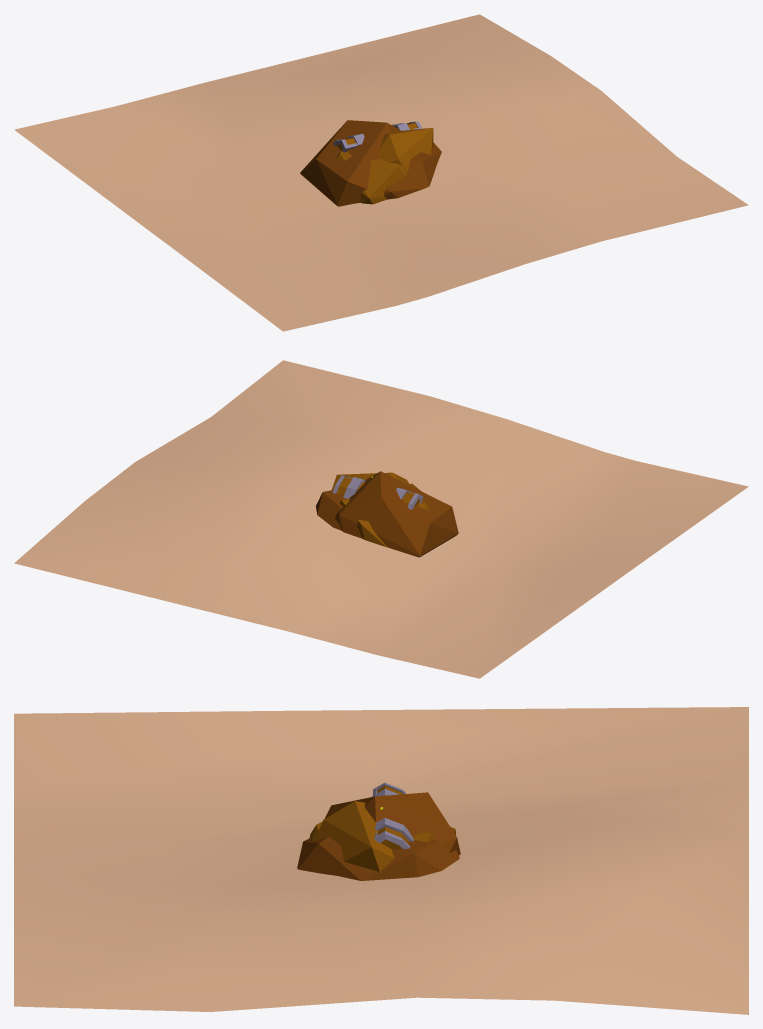
The model's file is Underwater_all_objects.FBX.
The picture shows the model from 3 angles, top to bottom: view 1: azimuth 30°, elevation 25°; view 2: azimuth 150°, elevation 25°; view 3: azimuth 270°, elevation 25°; orthographic projection. The views are drawn at different scales.
Visible parts, largest first — view 1: Sand_01, Rock_02, Rock_01, Rock_06, Rock_07, Chest_opened_01; view 2: Sand_01, Rock_02, Chest_opened_01, Rock_06, Rock_07; view 3: Sand_01, Rock_06, Rock_02, Rock_01, Chest_opened_01.
Boxes of the visible parts, left/top/right/bottom form: Sand_01: left=14, top=14, right=748, bottom=331; Rock_02: left=300, top=120, right=400, bottom=206; Rock_01: left=379, top=128, right=433, bottom=173; Rock_06: left=384, top=123, right=441, bottom=199; Rock_07: left=336, top=150, right=406, bottom=204; Chest_opened_01: left=333, top=121, right=422, bottom=152; Sand_01: left=14, top=360, right=748, bottom=678; Rock_02: left=334, top=471, right=458, bottom=557; Chest_opened_01: left=332, top=475, right=423, bottom=509; Rock_06: left=316, top=490, right=346, bottom=530; Rock_07: left=339, top=483, right=428, bottom=547; Sand_01: left=14, top=707, right=748, bottom=1014; Rock_06: left=297, top=836, right=459, bottom=880; Rock_02: left=324, top=792, right=460, bottom=854; Rock_01: left=314, top=801, right=394, bottom=873; Chest_opened_01: left=372, top=782, right=413, bottom=849.
Size of the model in its own units: 4999 by 1027 by 5005.
